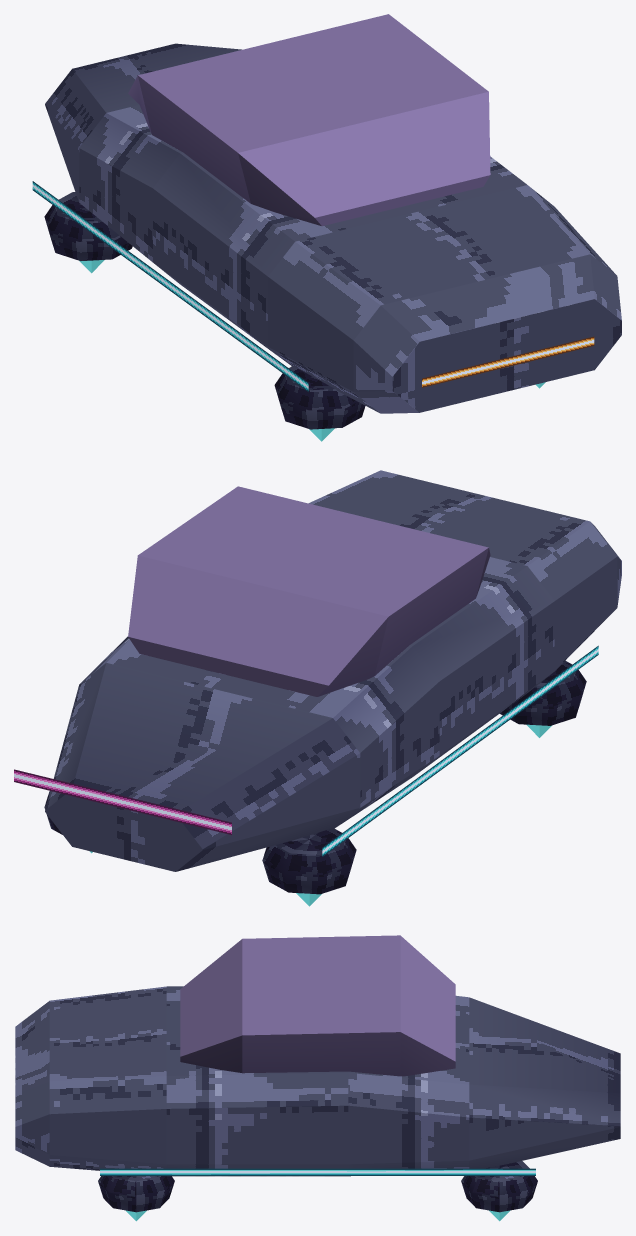
The model's file is cytech.hovercar.glb.
3 renders of one model, top to bottom at view 1: azimuth 30°, elevation 25°; view 2: azimuth 150°, elevation 25°; view 3: azimuth 270°, elevation 25°, orthographic. The views are drawn at different scales.
Parts seen in each view (by area): view 1: kit_hull, kit_canopy, kit_pods, kit_card_lights; view 2: kit_hull, kit_canopy, kit_pods, kit_card_lights; view 3: kit_hull, kit_canopy, kit_pods, kit_card_lights.
Part boxes in pixels (<box>): kit_hull: <box>45,43,621,413</box>; kit_canopy: <box>128,14,490,226</box>; kit_pods: <box>44,192,545,441</box>; kit_card_lights: <box>32,181,594,391</box>; kit_hull: <box>45,470,621,871</box>; kit_canopy: <box>128,486,490,696</box>; kit_pods: <box>44,661,586,906</box>; kit_card_lights: <box>14,645,598,856</box>; kit_hull: <box>15,986,620,1176</box>; kit_canopy: <box>180,935,455,1076</box>; kit_pods: <box>98,1161,537,1221</box>; kit_card_lights: <box>100,1168,535,1175</box>.
Bounding box in the file's own units: 2 × 1.57 × 4.42.
Materials: 4 (3 with a texture image).
